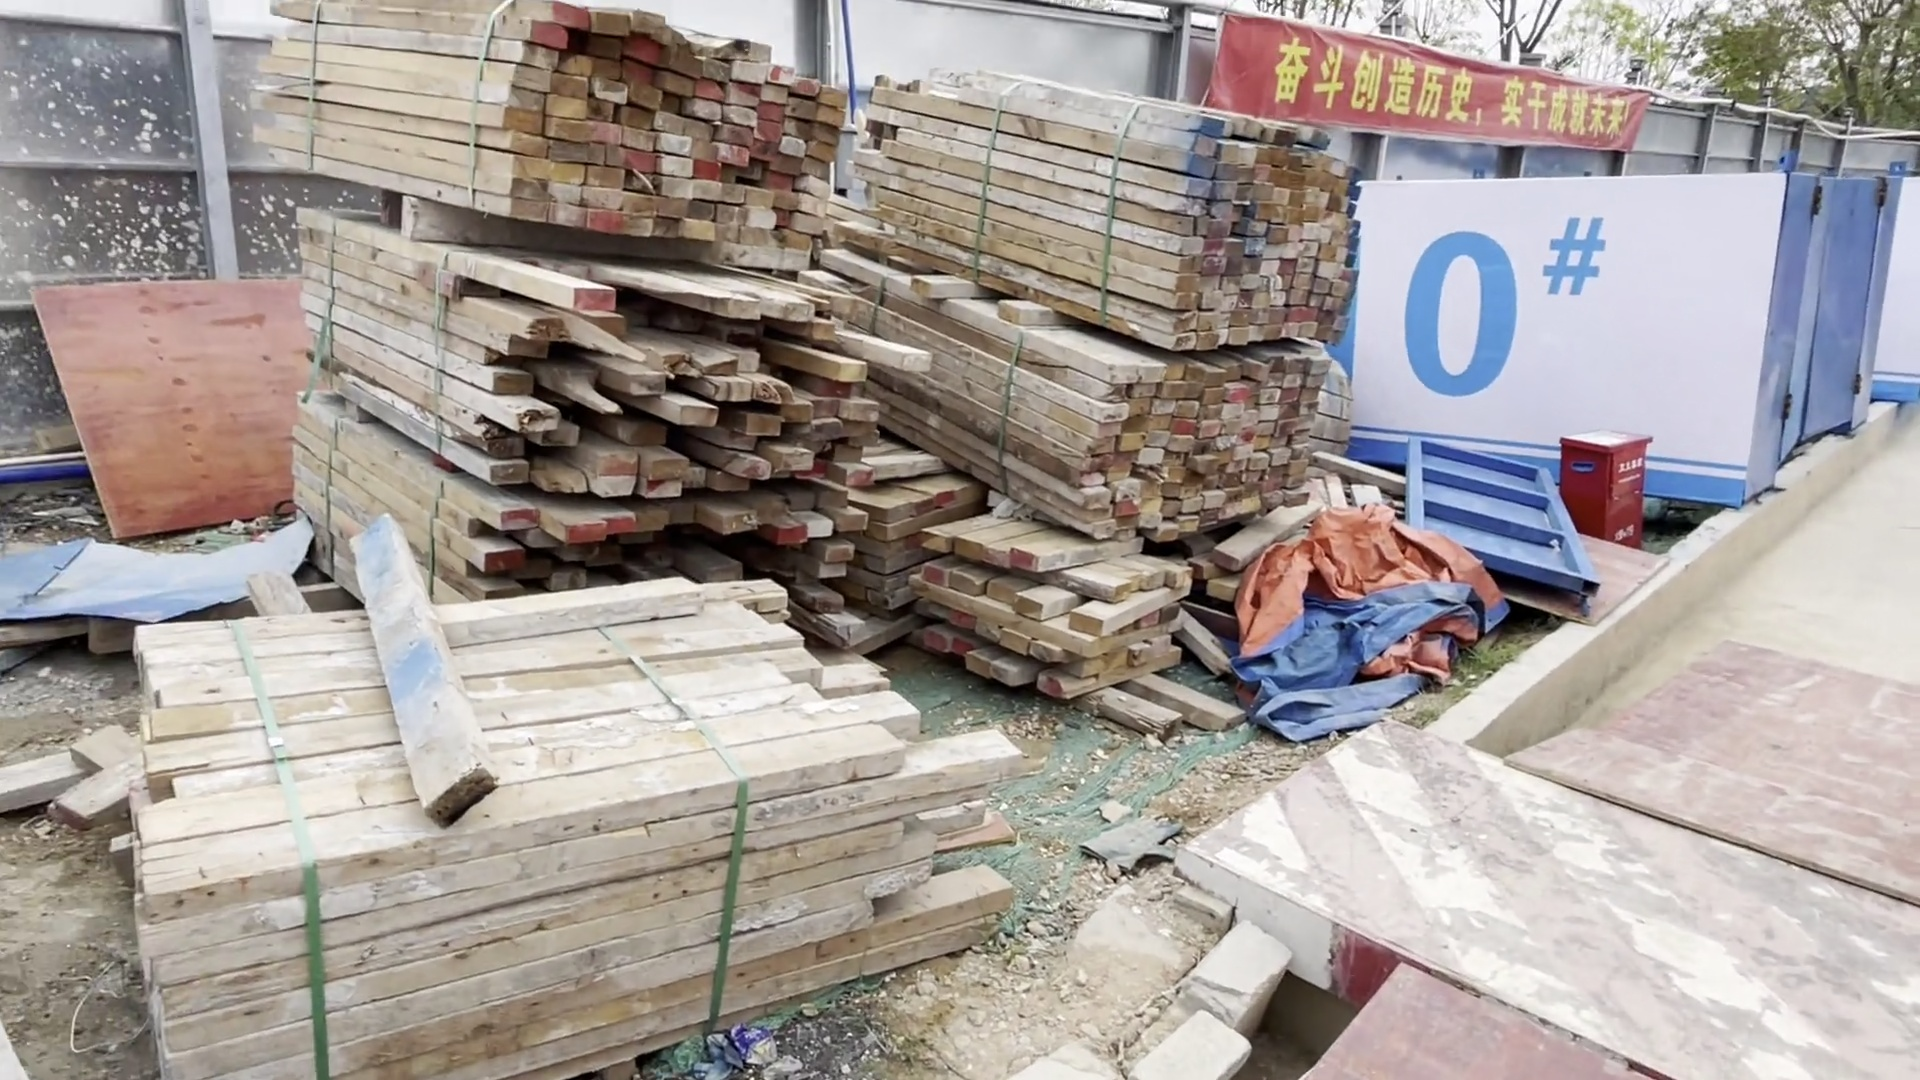board: (1232, 644, 1920, 1075), (25, 265, 305, 541)
slogan: (1182, 3, 1663, 164)
wood: (131, 596, 1014, 1029), (274, 1, 840, 597), (872, 69, 1341, 683)
